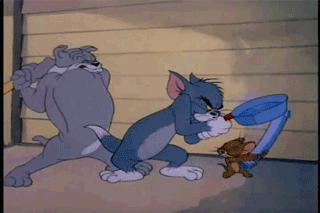tom: (82, 68, 231, 183)
